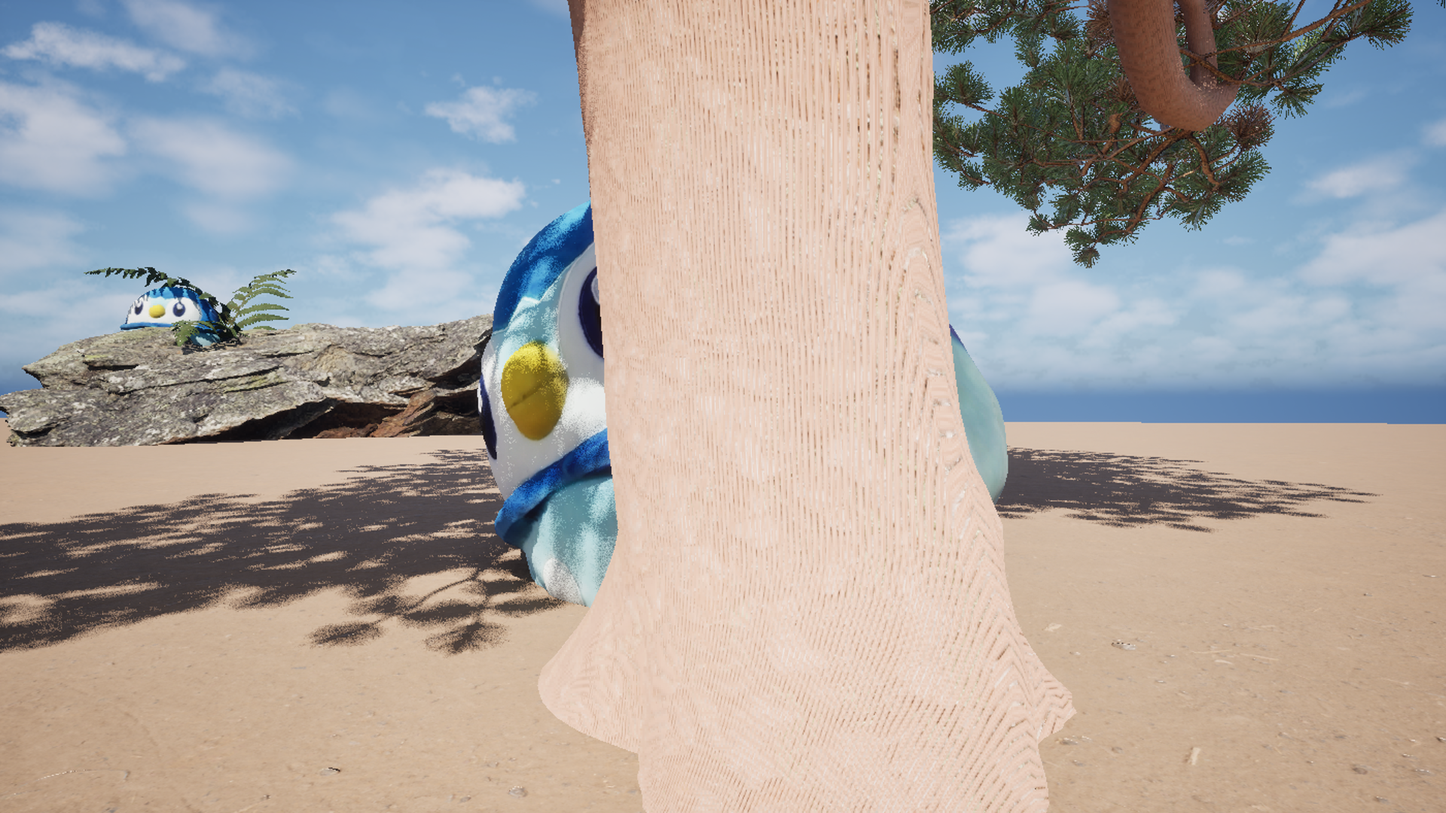Piplup: (86, 0, 1392, 813)
